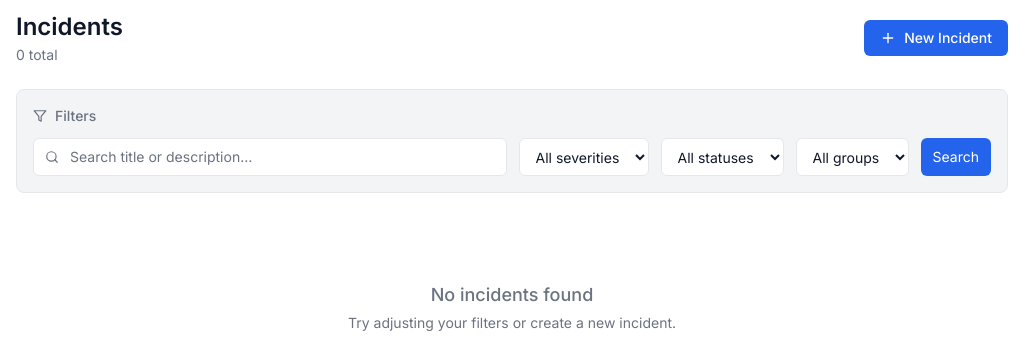
Test: IncidentListPage › shows a Clear button once a filter is applied
Expected: the text "Clear" is not shown
Type "db" into the field with placeholder "Search title or description…" at (270, 157), box [33, 138, 506, 176]
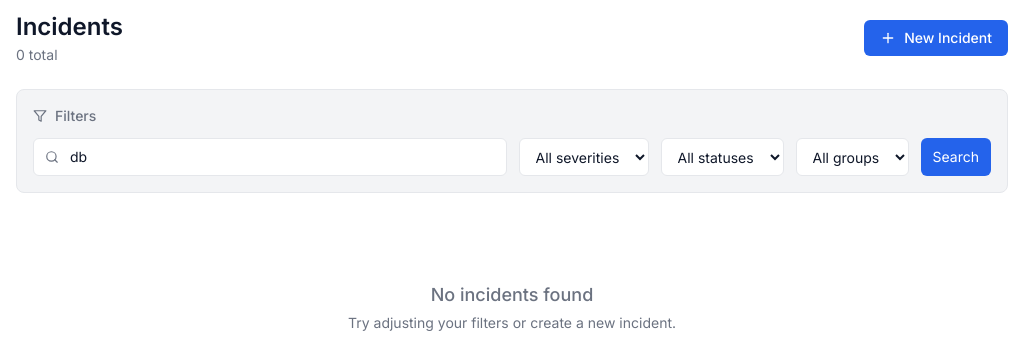
Click the button "Search" at (956, 157), box [920, 138, 991, 176]
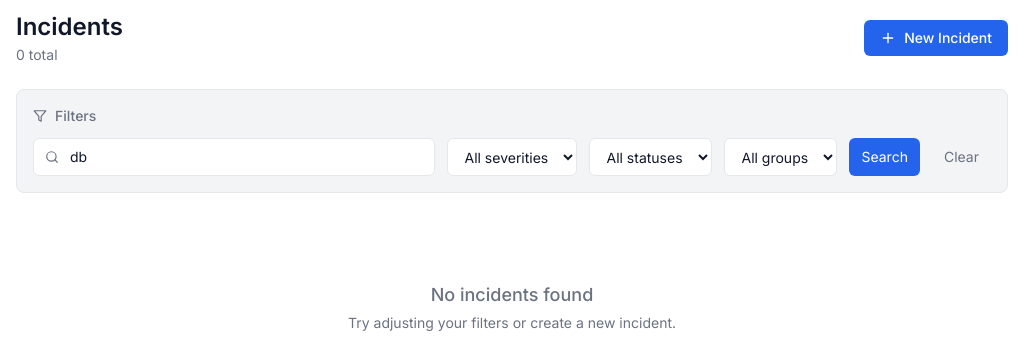
Now the button "Clear" is shown, box [932, 138, 991, 176]
